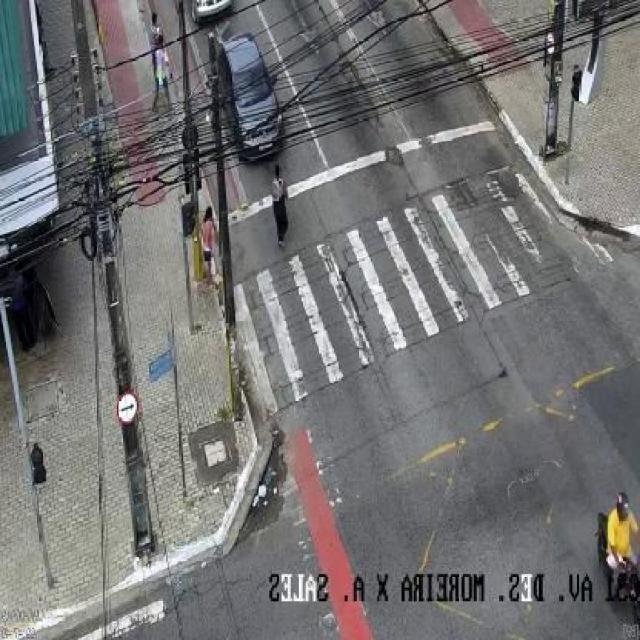Car: (218, 25, 291, 167)
Cycle: (579, 472, 639, 622)
